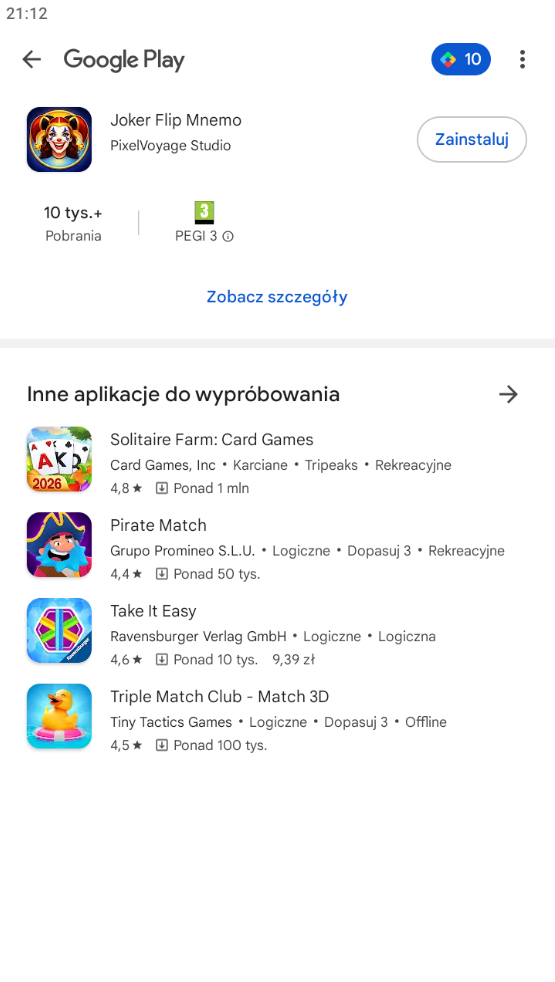store_logo: (53, 33, 191, 86)
